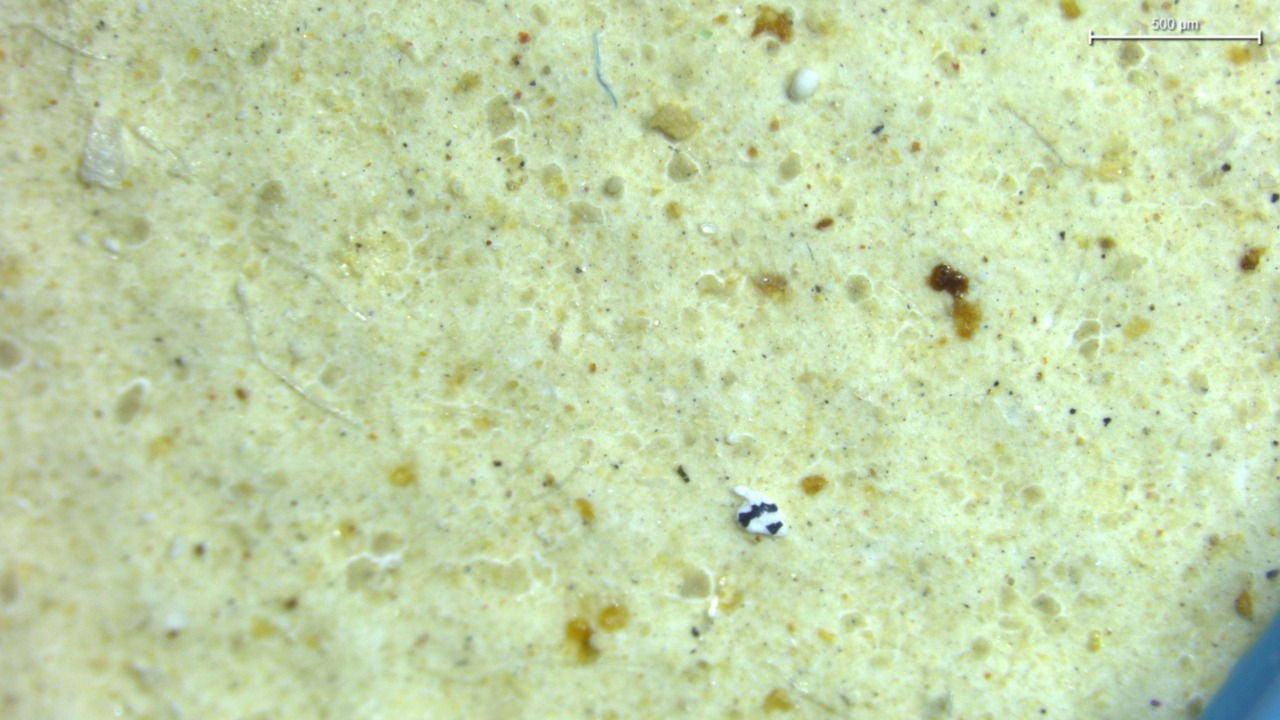microplastic_fragment: (733, 486, 788, 536)
